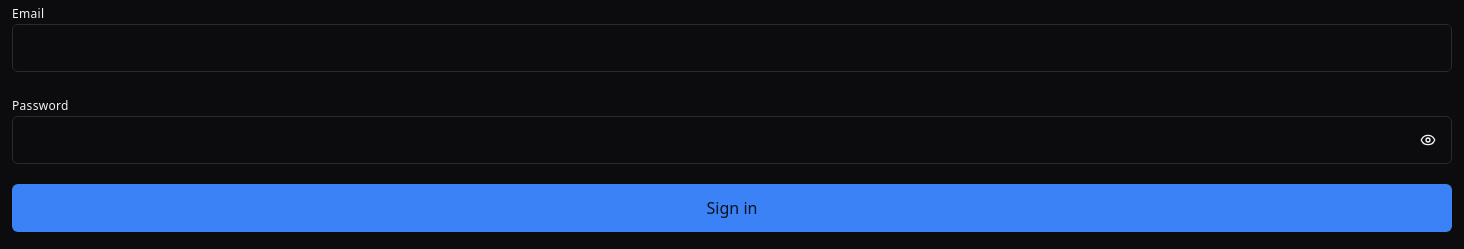
Test: LoginForm › toggles password visibility without changing the value
The width and height of the screenshot is (1464, 249).
In the password field labelled "Password": (732, 140) x1=12 y1=116 x2=1452 y2=164, type "secret-pass"
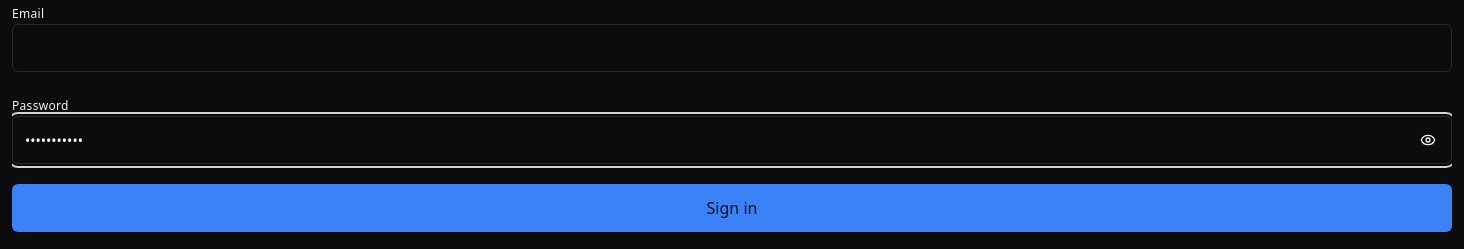
Click the button named "Show password": (1428, 140) x1=1408 y1=120 x2=1448 y2=160
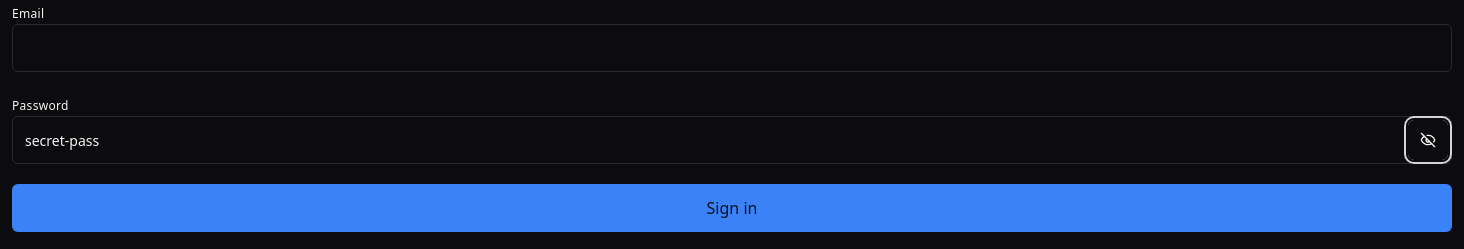
expect the field labelled "Password" shows its text: met, box x1=12 y1=116 x2=1452 y2=164
Click the button named "Hide password": (1428, 140) x1=1408 y1=120 x2=1448 y2=160
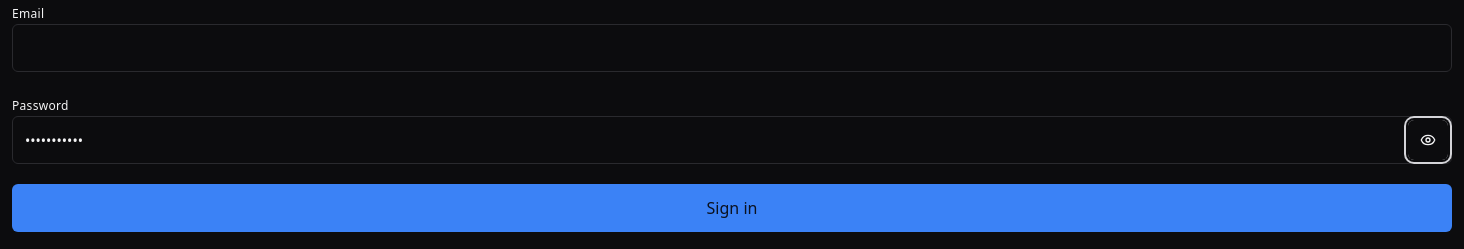
expect the password field labelled "Password" hides its text: met, box x1=12 y1=116 x2=1452 y2=164
